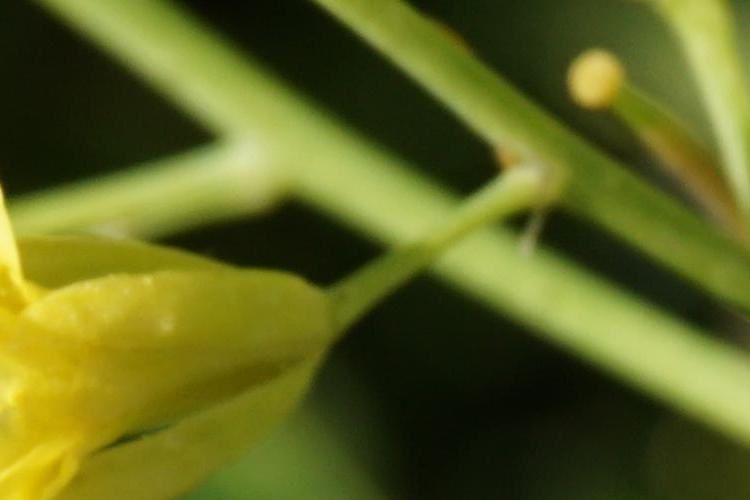pod: (554, 44, 728, 236)
yellow: (3, 259, 333, 500)
